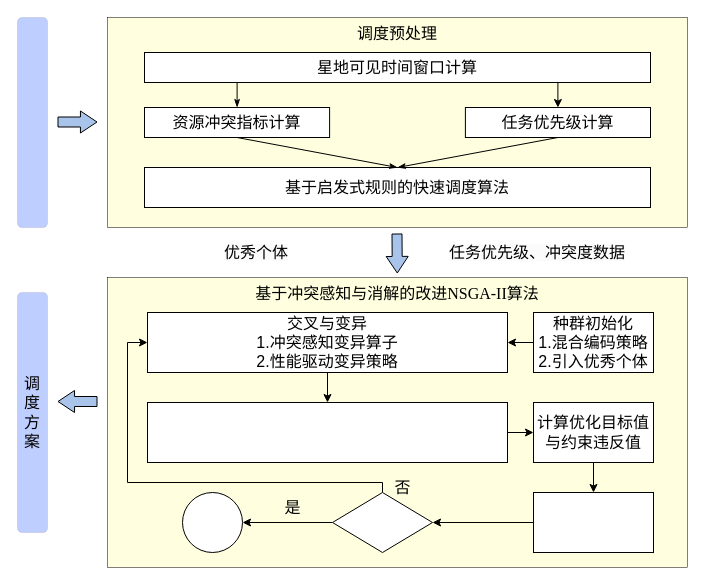
The diagram is 705 pixels wide and 585 high, and some of its shapes have lost their labels. The centre of each missing label's shape, as x and y in pixels:
"动态冲突消解策略 1.计算种群中每个个体中的每个任务的 动态冲突度 2.消解不可行个体中冲突度最高的任务" belongs at (327,432).
"场景信息" belongs at (32,122).
"是否结束" belongs at (382,522).
"结束" belongs at (212,522).
"选择" belongs at (593,522).
